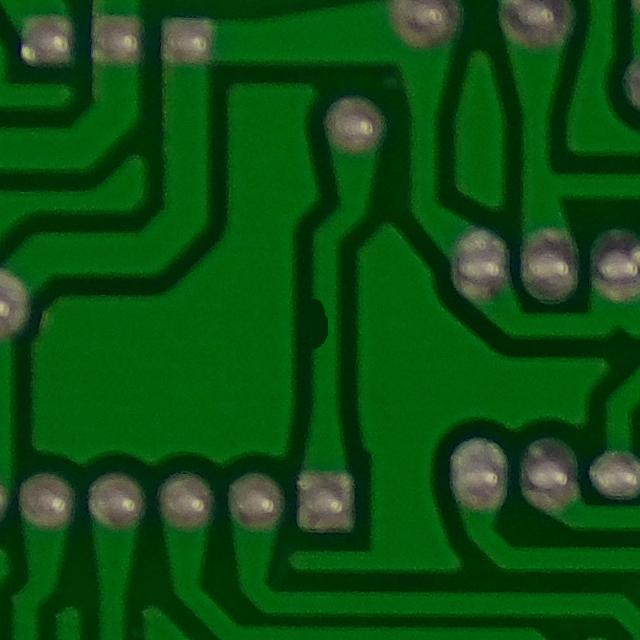mouse_bite: (293, 285, 348, 355)
